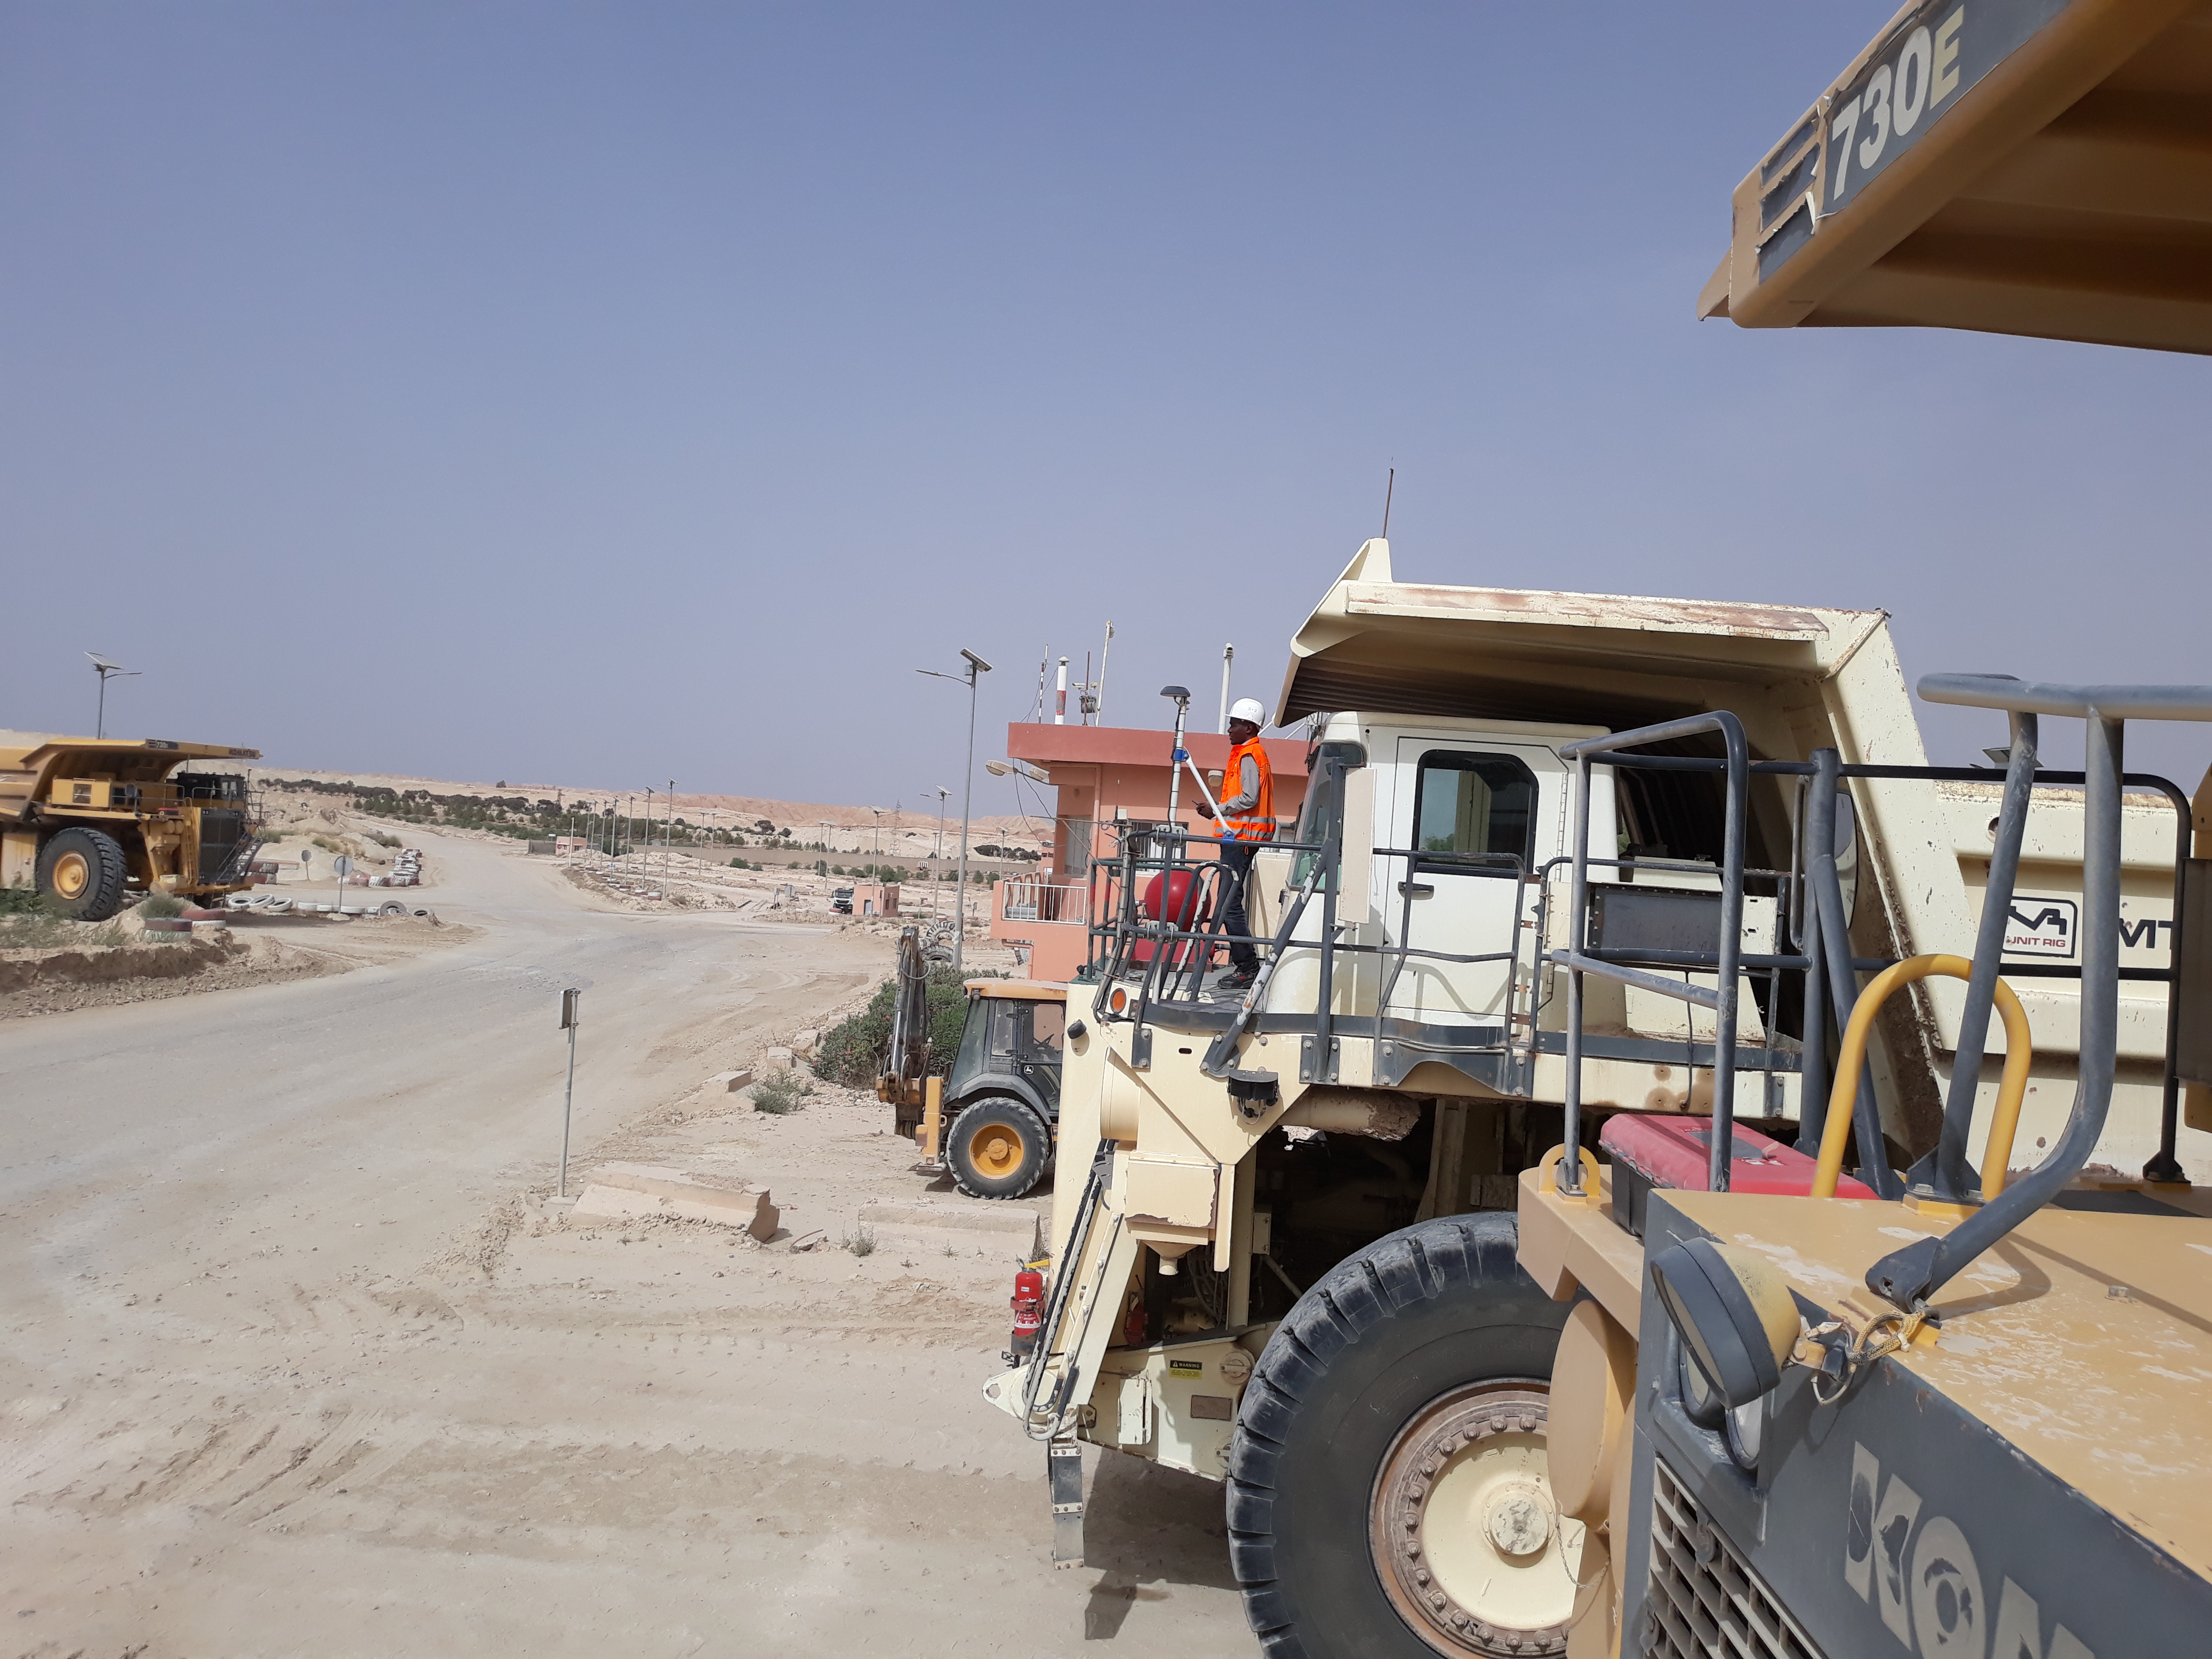camion: (1004, 522, 2195, 1659), (1, 721, 278, 939)
person: (1168, 683, 1288, 1022)
